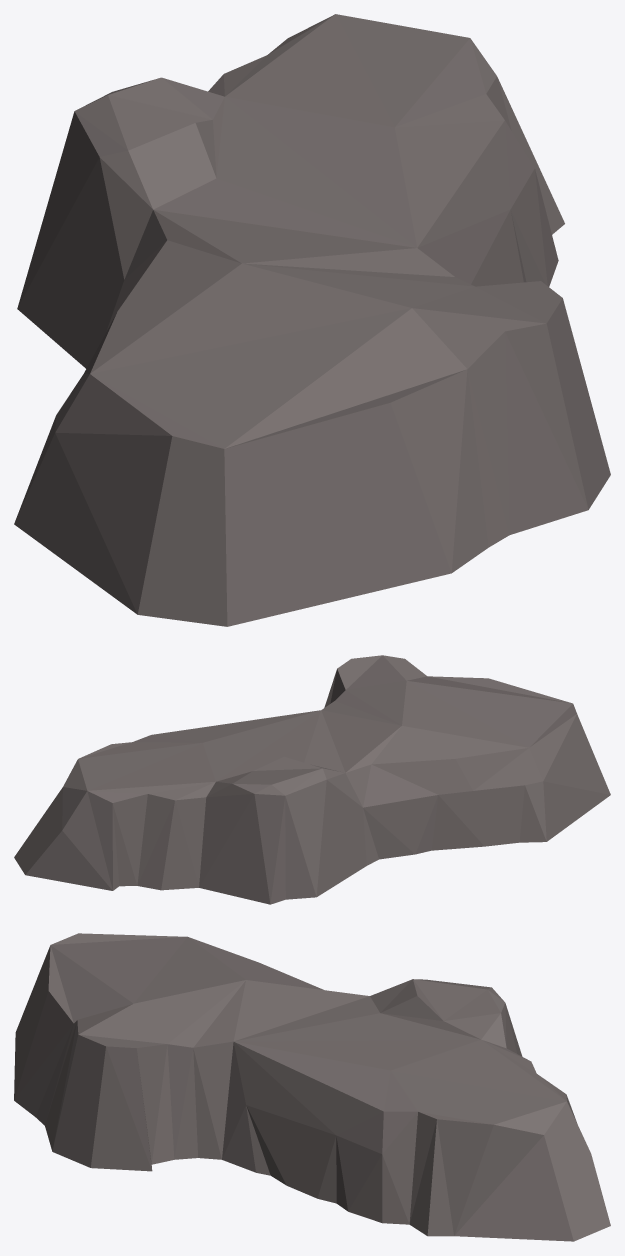
Rendered from rock_01.FBX.
3 renders of one model, top to bottom at view 1: azimuth 30°, elevation 25°; view 2: azimuth 150°, elevation 25°; view 3: azimuth 270°, elevation 25°, orthographic. The views are drawn at different scales.
Visible parts, largest first — view 1: rock_01; view 2: rock_01; view 3: rock_01.
Part boxes in pixels (x1=…): rock_01: x1=14, y1=14, x2=610, y2=626; rock_01: x1=14, y1=655, x2=610, y2=904; rock_01: x1=14, y1=933, x2=610, y2=1241.
Bounding box in the file's own units: 6.92 × 1.78 × 7.72.
